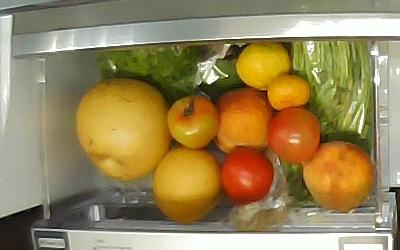peach: (302, 142, 373, 213), (211, 90, 273, 155)
pear: (74, 80, 170, 179), (152, 145, 220, 223)
tangerine: (236, 42, 289, 91), (267, 76, 312, 109)
tomato: (218, 149, 275, 203), (166, 95, 220, 149), (267, 108, 318, 164)
